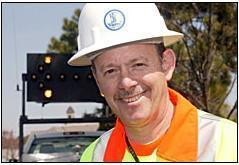Boots: (67, 0, 186, 70)
Glass: (62, 93, 238, 162)
